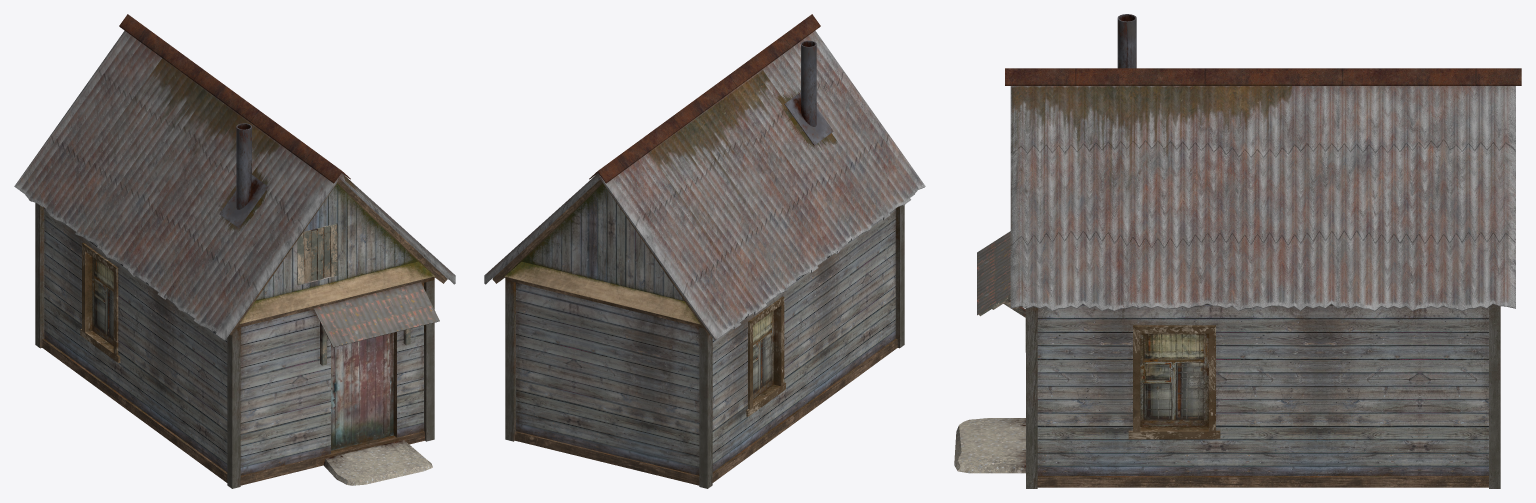
File: shack.obj
3 renders of one model, left to right at view 1: azimuth 30°, elevation 25°; view 2: azimuth 150°, elevation 25°; view 3: azimuth 270°, elevation 25°, orthographic. The views are drawn at different scales.
Visible parts, largest first — view 1: Box927, Object023, Box931, Cylinder002, Box932, Object022; view 2: Box927, Object023, Box931, Cylinder002; view 3: Object023, Box927, Cylinder002, Box932.
Boxes of the visible parts, left/top/right/bottom form: Box927: left=35, top=203, right=434, bottom=488; Object023: left=14, top=14, right=455, bottom=340; Box931: left=229, top=179, right=447, bottom=335; Cylinder002: left=219, top=123, right=432, bottom=485; Box932: left=313, top=282, right=439, bottom=365; Object022: left=297, top=224, right=337, bottom=285; Box927: left=505, top=205, right=904, bottom=488; Object023: left=484, top=14, right=925, bottom=340; Box931: left=492, top=179, right=710, bottom=335; Cylinder002: left=784, top=40, right=833, bottom=145; Object023: left=1005, top=68, right=1521, bottom=311; Box927: left=1026, top=304, right=1500, bottom=488; Cylinder002: left=954, top=14, right=1136, bottom=473; Box932: left=977, top=231, right=1025, bottom=352.
Bounding box in the file's own units: 4.38 × 5.49 × 7.36.
Materials: 6 (6 with a texture image).
